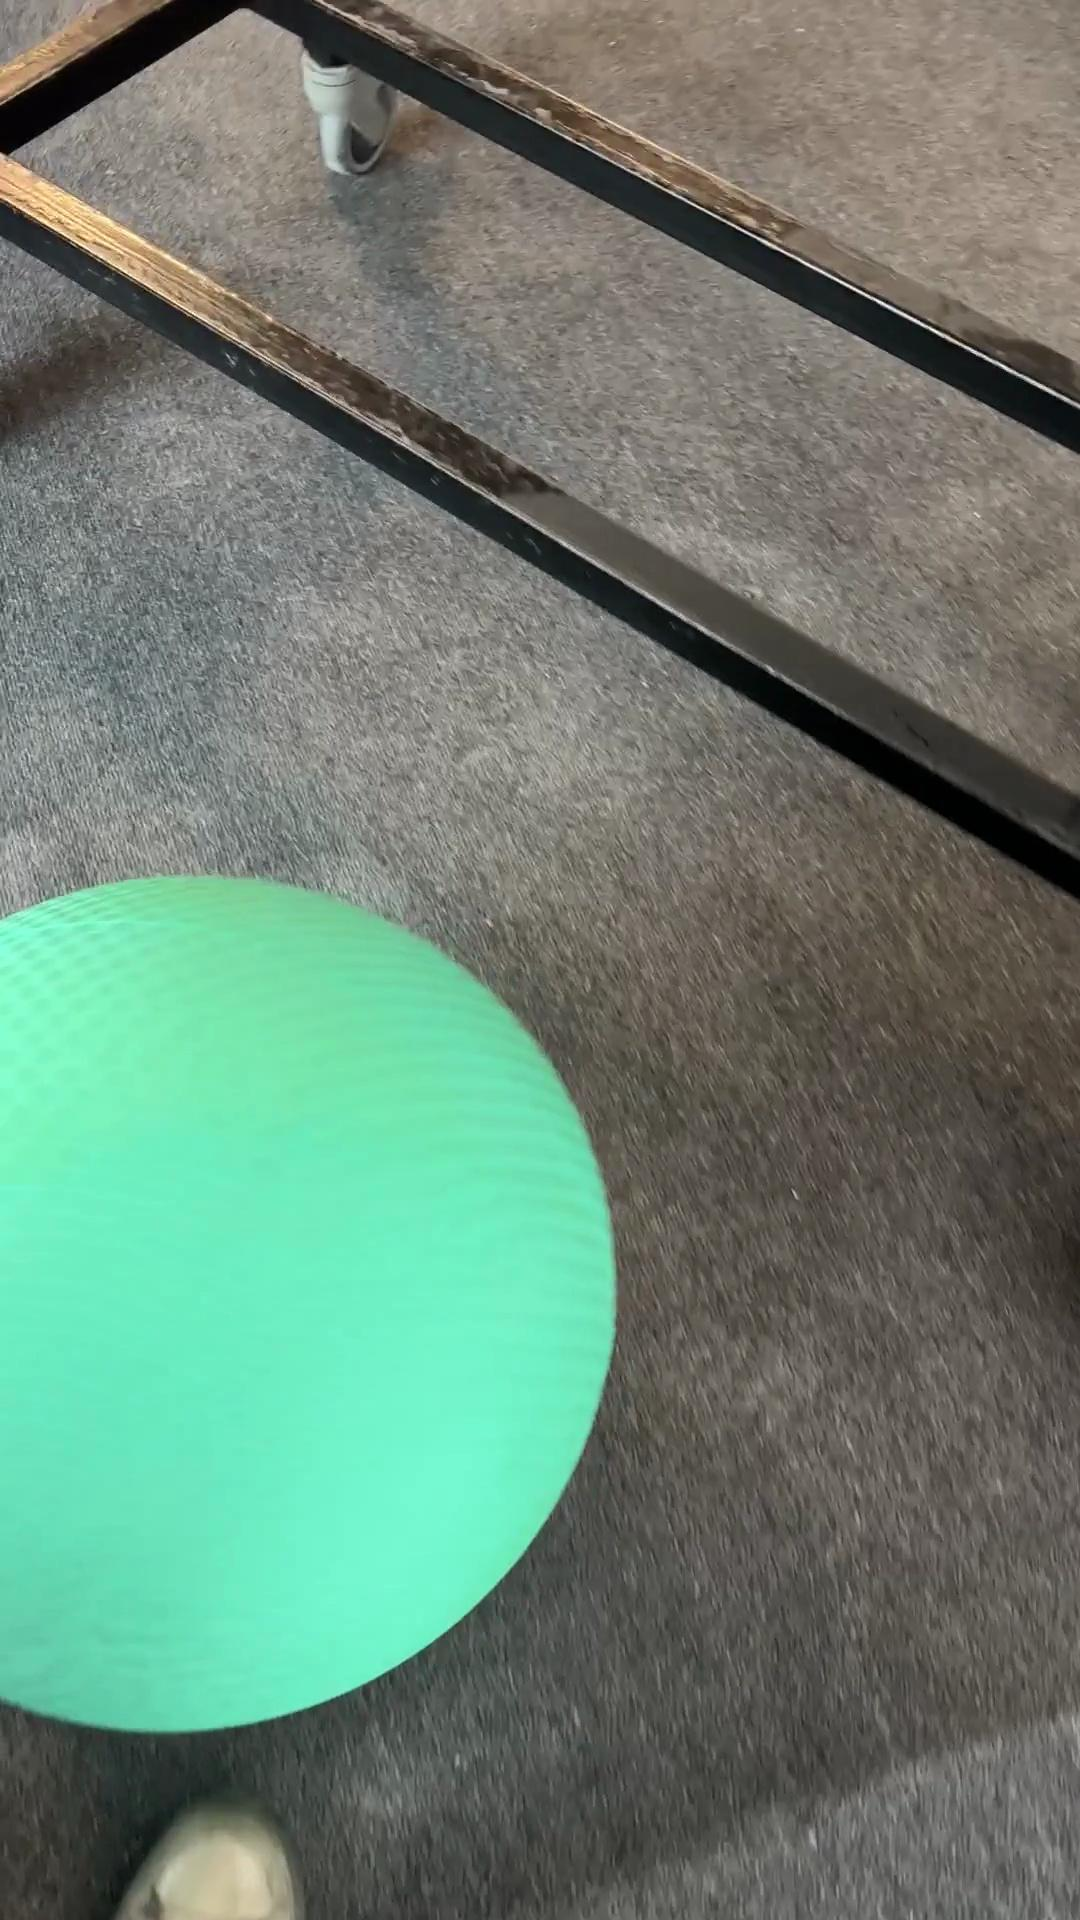ALGAE: (1, 872, 620, 1735)
